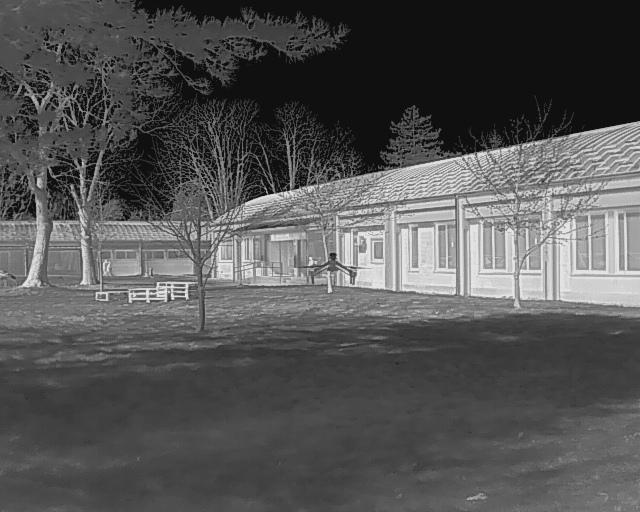drone: (298, 248, 366, 292)
